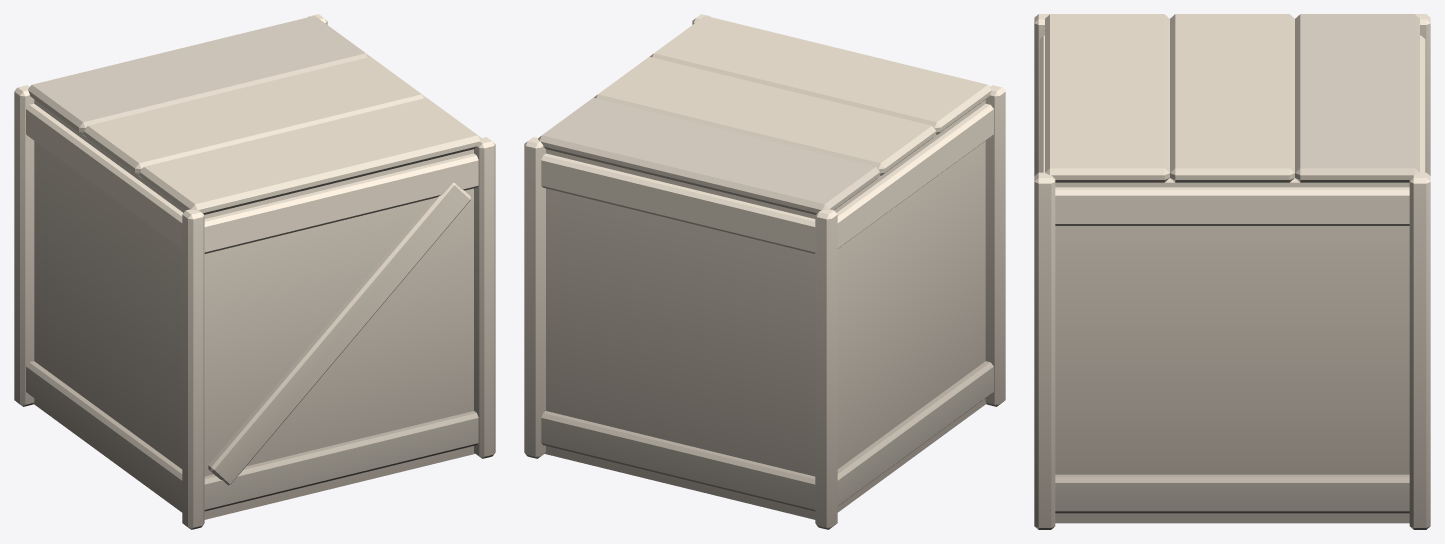
Rendered from SM_VKI_Prop_Crate.fbx.
3 views of the same model, side by side, from view 1: azimuth 30°, elevation 25°; view 2: azimuth 150°, elevation 25°; view 3: azimuth 270°, elevation 25° (orthographic). The views are drawn at different scales.
Parts seen in each view (by area): view 1: SM_VKI_Prop_Crate.001; view 2: SM_VKI_Prop_Crate.001; view 3: SM_VKI_Prop_Crate.001.
Boxes of the visible parts, x1=… form: SM_VKI_Prop_Crate.001: x1=14, y1=14, x2=495, y2=529; SM_VKI_Prop_Crate.001: x1=524, y1=14, x2=1005, y2=529; SM_VKI_Prop_Crate.001: x1=1034, y1=14, x2=1430, y2=529.
Bounding box in the file's own units: 0.75 × 0.745 × 0.75.
